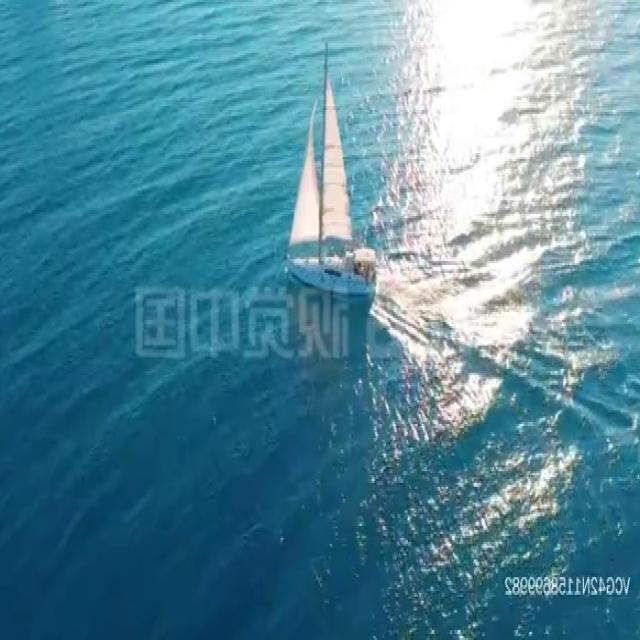sailboat: (288, 40, 380, 294)
